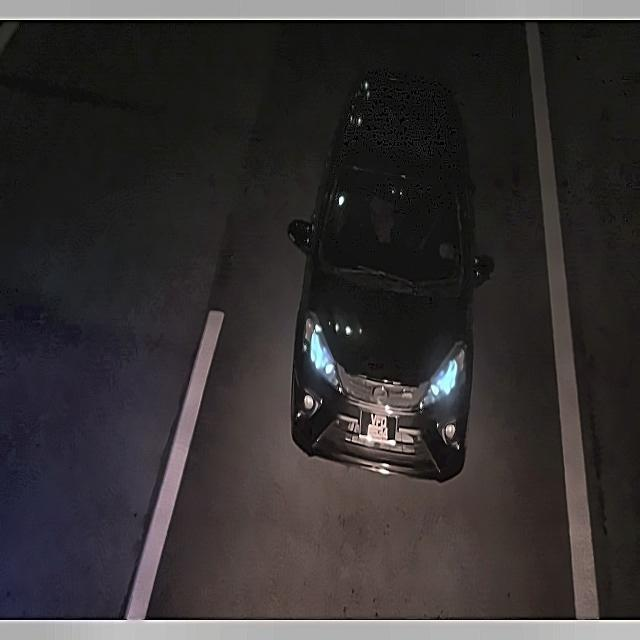car: (356, 404, 406, 451)
